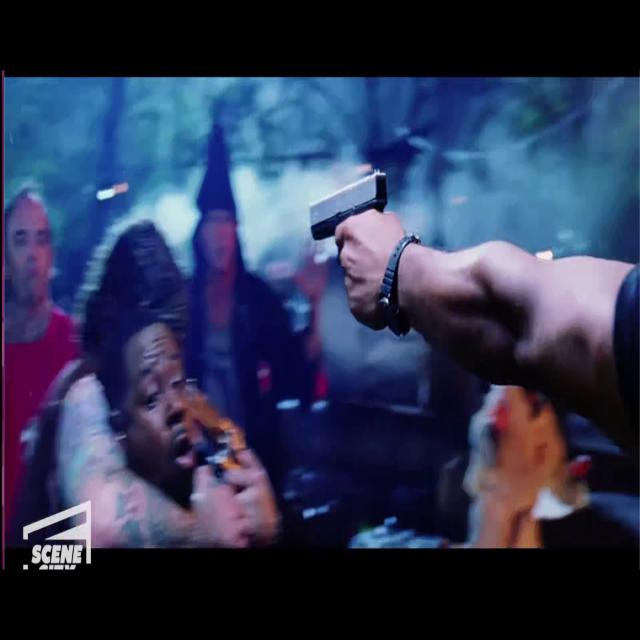weapons: (297, 153, 403, 314)
